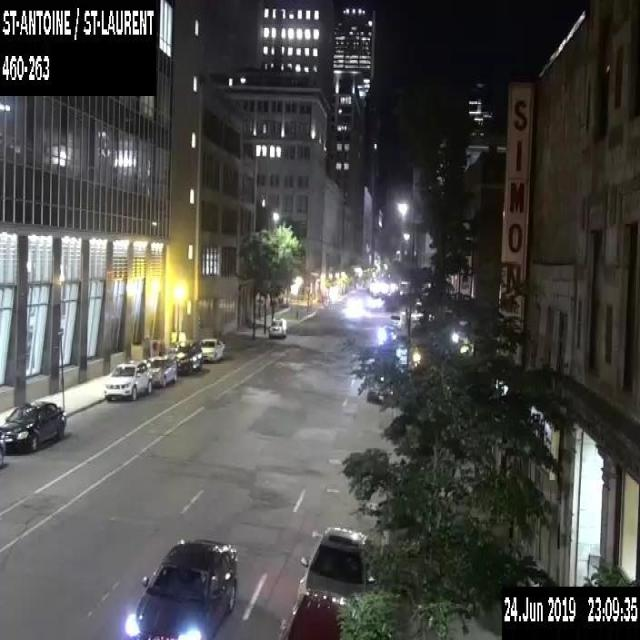vehicle: (124, 537, 239, 639), (296, 524, 378, 602), (274, 590, 350, 638), (0, 399, 68, 452), (103, 358, 152, 399), (167, 339, 202, 371), (146, 355, 177, 385), (367, 373, 394, 404), (393, 342, 420, 369), (200, 337, 225, 361), (268, 317, 286, 336), (379, 324, 396, 344), (388, 312, 402, 328), (0, 434, 5, 466)
